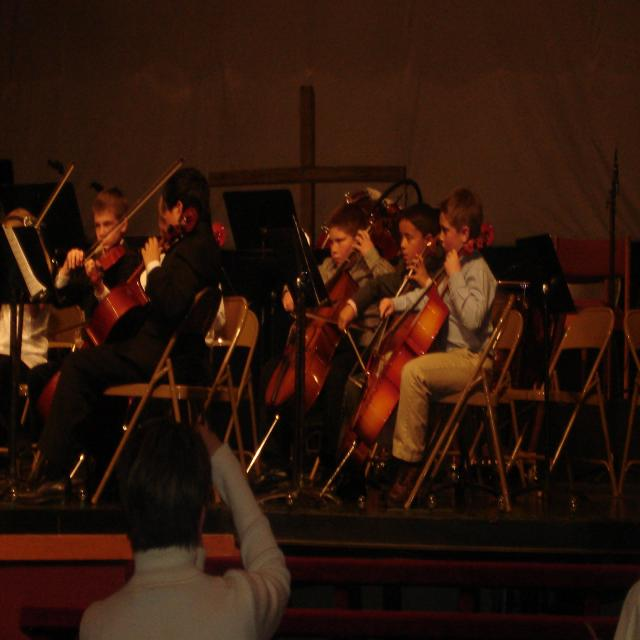cello: (39, 208, 195, 428), (352, 216, 498, 449), (265, 266, 357, 412)
violin: (86, 240, 126, 281)
